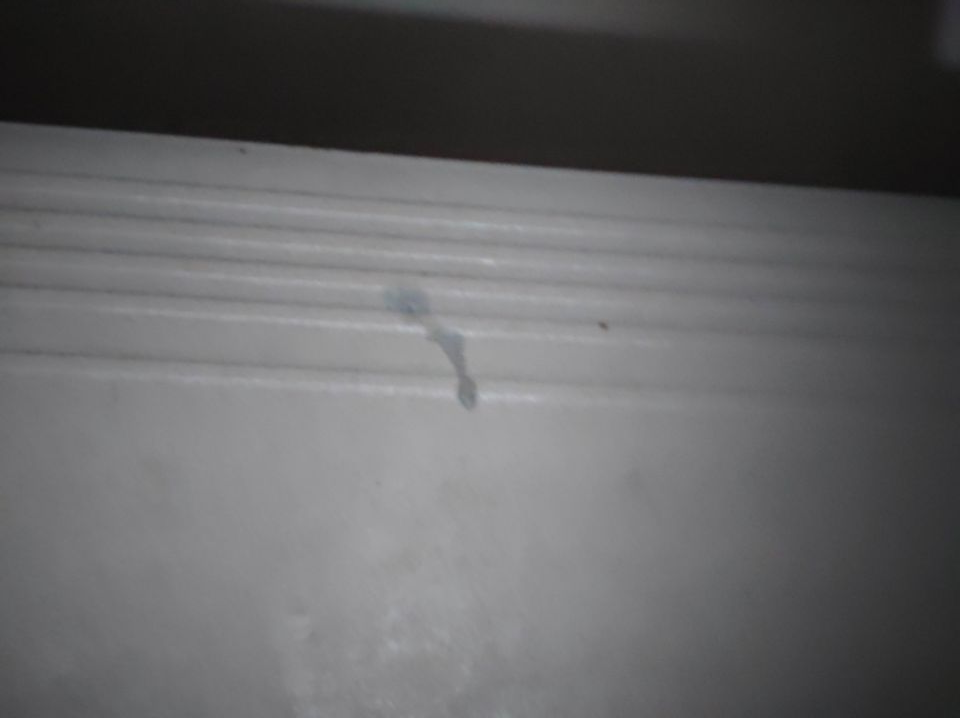grey spot: (385, 286, 478, 408)
